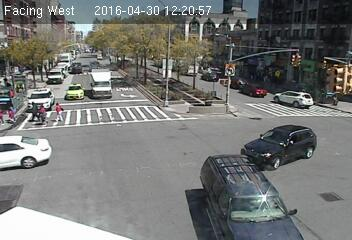neg: (132, 156, 157, 190), (116, 81, 134, 105), (195, 86, 211, 108), (28, 146, 44, 167), (224, 61, 237, 78), (287, 51, 300, 68), (324, 87, 336, 103), (160, 63, 170, 78), (94, 80, 104, 94)
pos: (50, 99, 69, 124), (33, 102, 51, 125), (1, 104, 17, 125), (24, 100, 39, 121)
